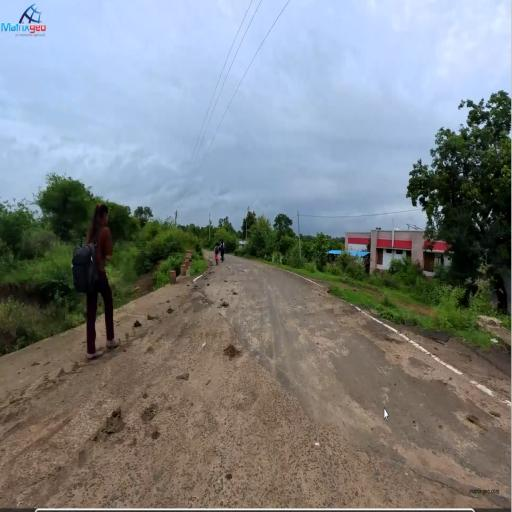ravelling: (159, 302, 306, 479)
